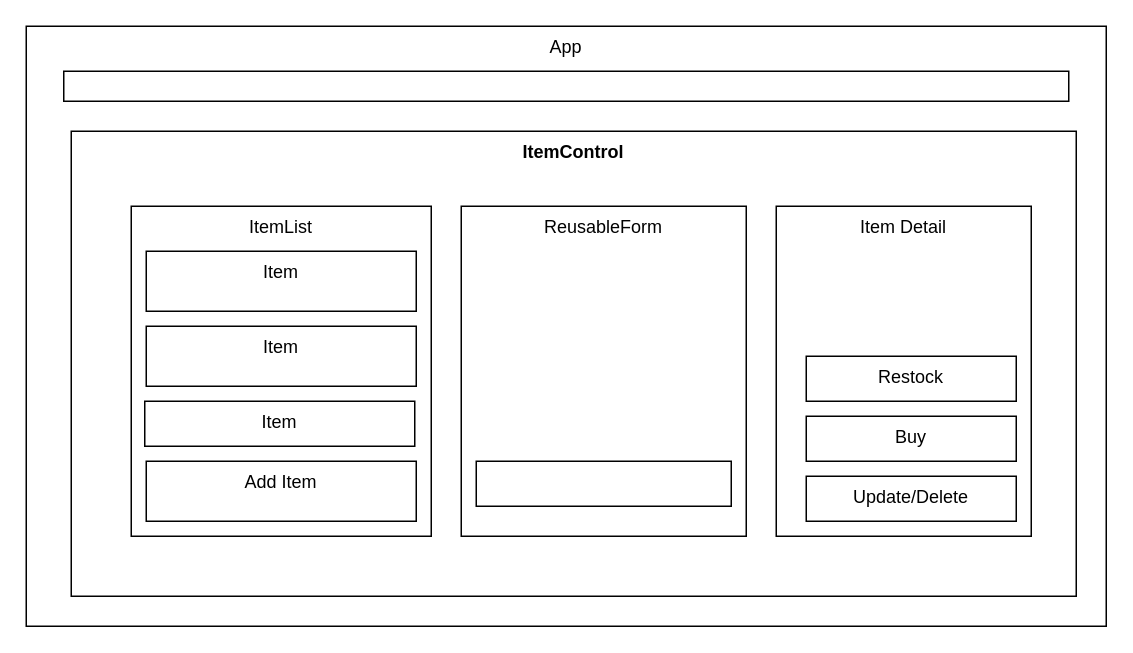
Some shapes in this 1133 by 653 pixel diagram are drawn without their labels. Here are the shapes that lost their labels. From the top down, the centre of each, then its label:
At point (565, 85): "Header".
At point (603, 483): "Submit".
